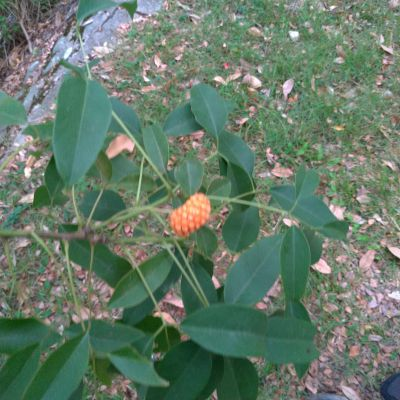eggs: (166, 192, 216, 233)
